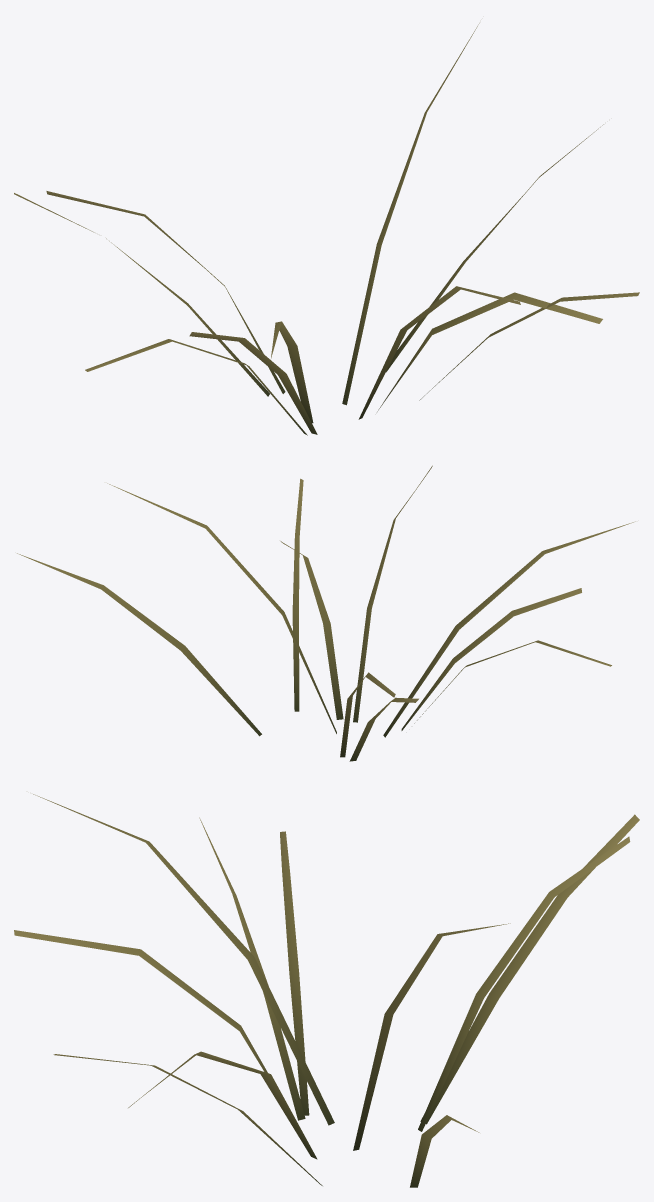
The model's file is b612_veg_VL_Grass_Dry_A_1.glb.
3 renders of one model, top to bottom at view 1: azimuth 30°, elevation 25°; view 2: azimuth 150°, elevation 25°; view 3: azimuth 270°, elevation 25°, orthographic. The views are drawn at different scales.
Visible parts, largest first — view 1: Grass_Dry_A_LOD1; view 2: Grass_Dry_A_LOD1; view 3: Grass_Dry_A_LOD1.
Part boxes in pixels (bbox=[...]): Grass_Dry_A_LOD1: bbox=[14, 23, 639, 435]; Grass_Dry_A_LOD1: bbox=[17, 465, 635, 761]; Grass_Dry_A_LOD1: bbox=[14, 794, 639, 1187].
Size of the model in its own units: 0.4366 by 0.1987 by 0.3248.
